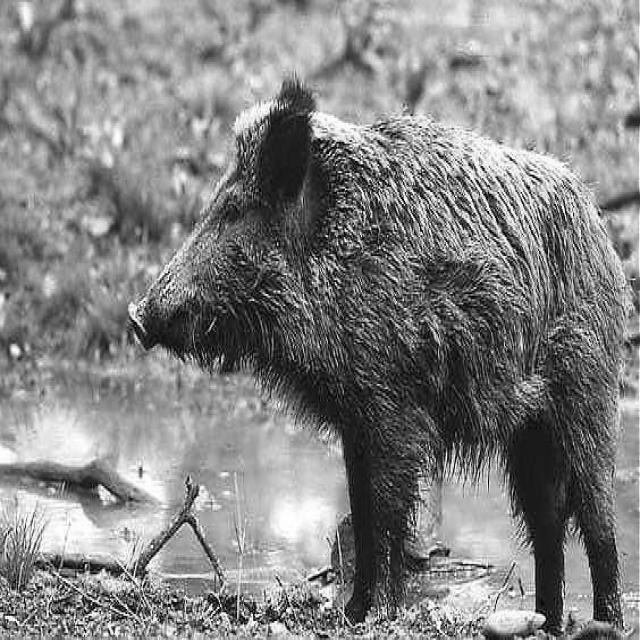boar: (130, 80, 631, 628)
